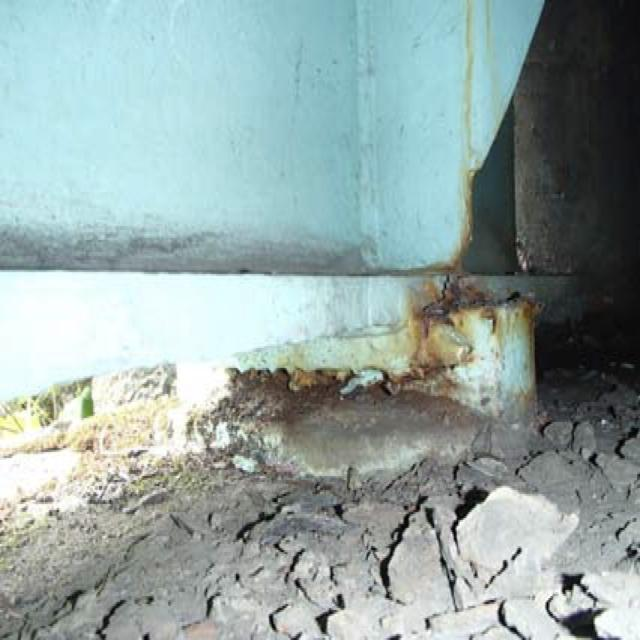corrosion: (213, 248, 536, 443)
